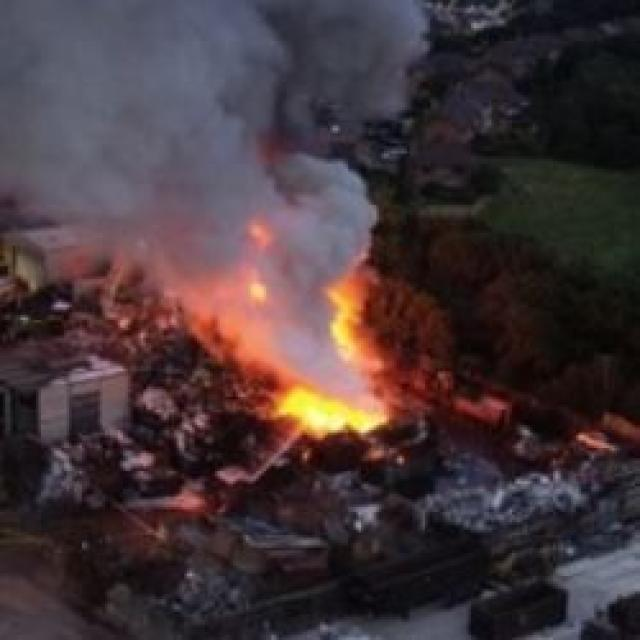Fire: (278, 387, 384, 433)
Smoke: (0, 0, 433, 364)
